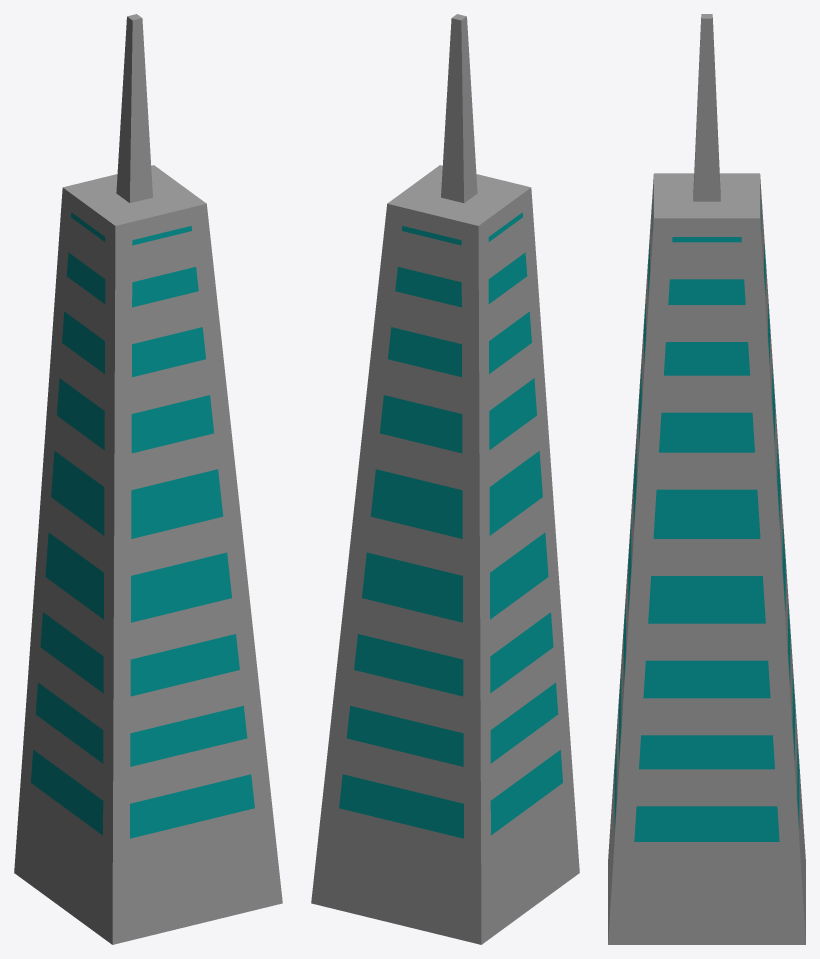
File: BuildingTwo.fbx
3 renders of one model, left to right at view 1: azimuth 30°, elevation 25°; view 2: azimuth 150°, elevation 25°; view 3: azimuth 270°, elevation 25°, orthographic.
Visible parts, largest first — view 1: pCube46; view 2: pCube46; view 3: pCube46.
Part boxes in pixels (x1=…): pCube46: x1=14, y1=14, x2=282, y2=944; pCube46: x1=311, y1=14, x2=579, y2=944; pCube46: x1=608, y1=14, x2=805, y2=944.
Bounding box in the file's own units: 1 × 4.9 × 1.
